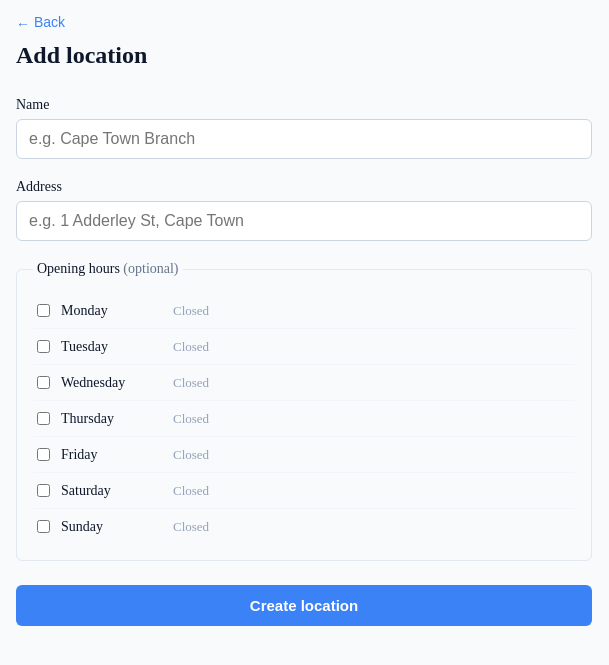
Test: AddLocationView › shows name validation error when name is 1 character
The image size is (609, 665).
Step 1. Type "A" into the field with test id "name-input" → (304, 139), box [16, 119, 592, 159]
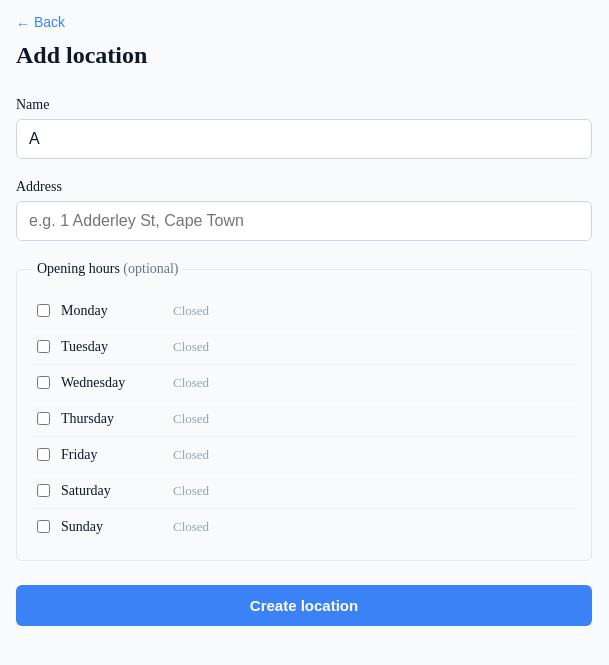
Step 2. Type "123 Main St" into the field with test id "address-input" → (304, 221), box [16, 201, 592, 241]
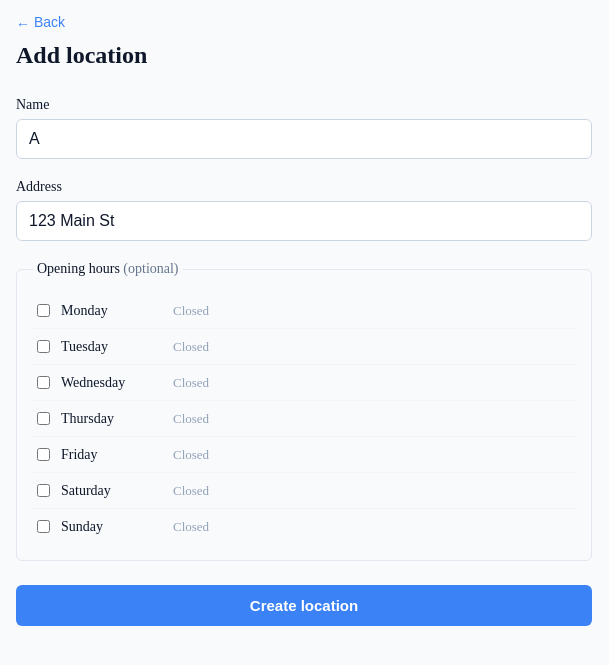
Step 3. Submit the form with test id "add-location-form"
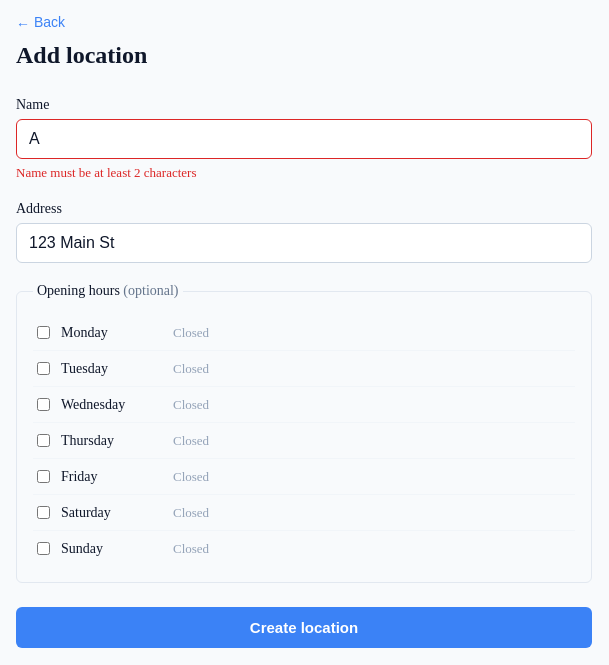
Check: the text "Name must be at least 2 characters" is shown, box [16, 165, 196, 180]
